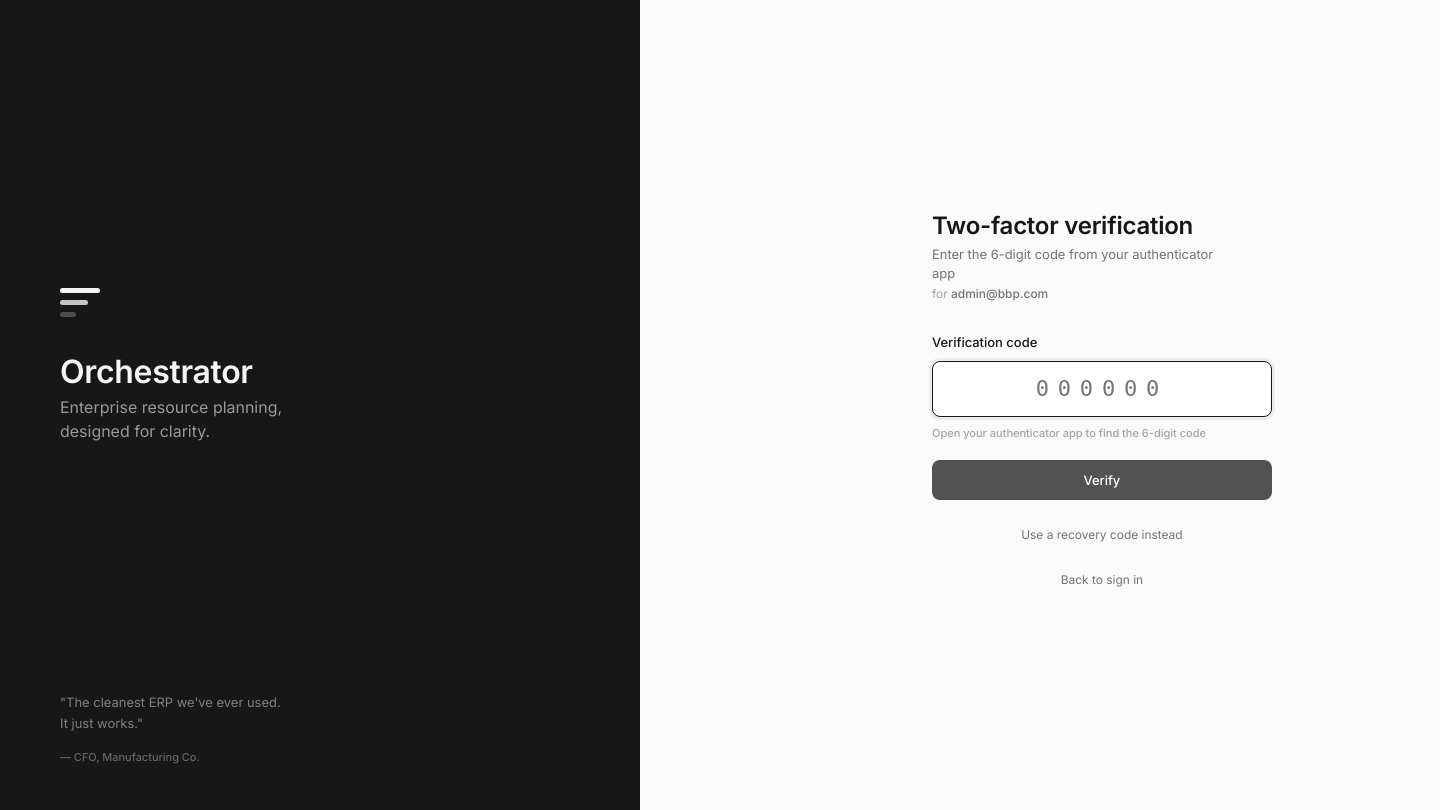
Test: MfaPage — TOTP input validation › only accepts digits (strips non-numeric chars)
Type "12abc34" into the field named "6-digit verification code". click: [1102, 389]
box: [932,361,1272,417]
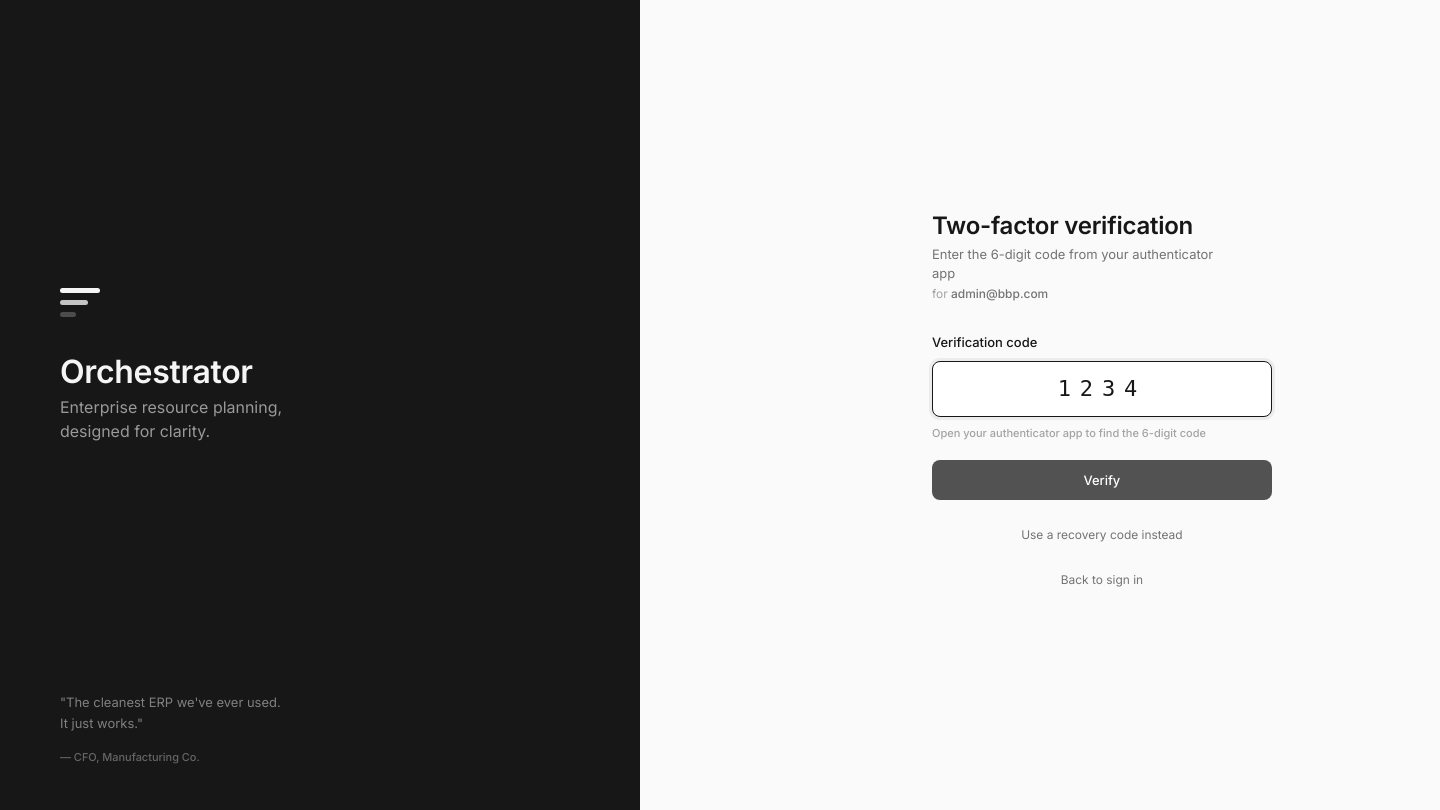
Check: the field named "6-digit verification code" holds "1234", box [932,361,1272,417]
